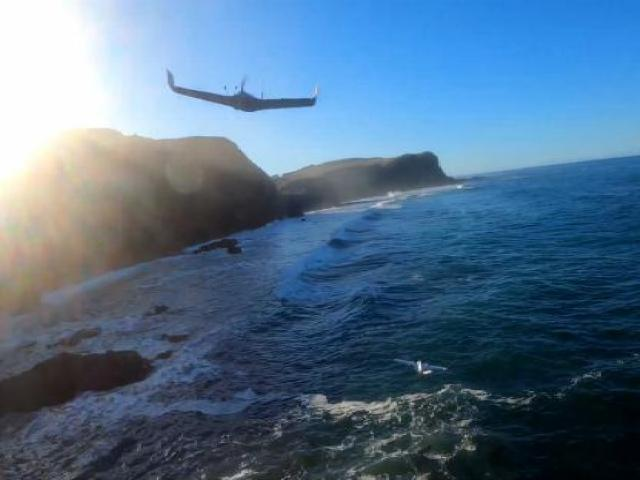uav: (163, 64, 320, 113)
